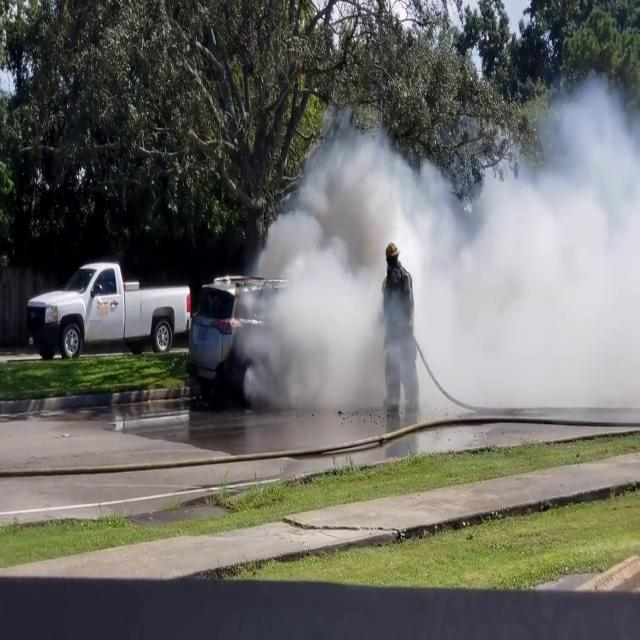Smoke: (218, 81, 640, 422), (217, 115, 452, 431)
